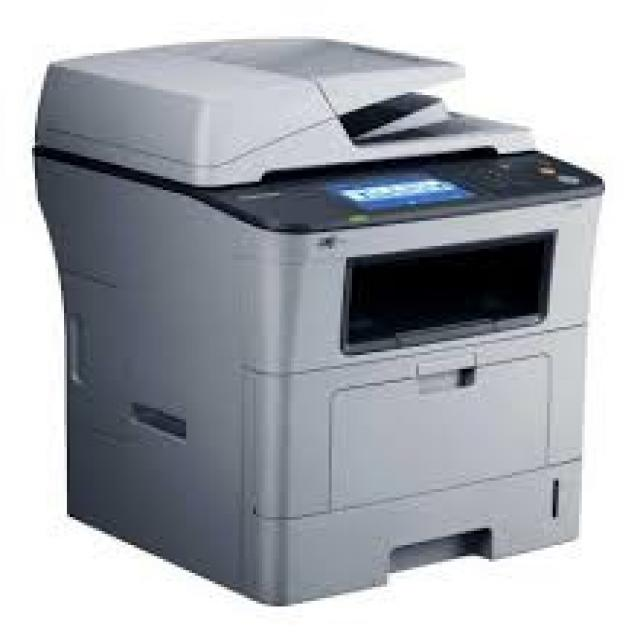printer: (28, 28, 616, 620)
